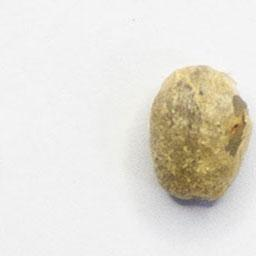peaberry: (144, 61, 253, 206)
